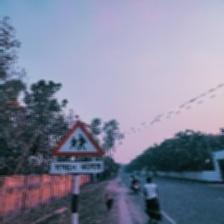College-in-front: (44, 122, 96, 169)
